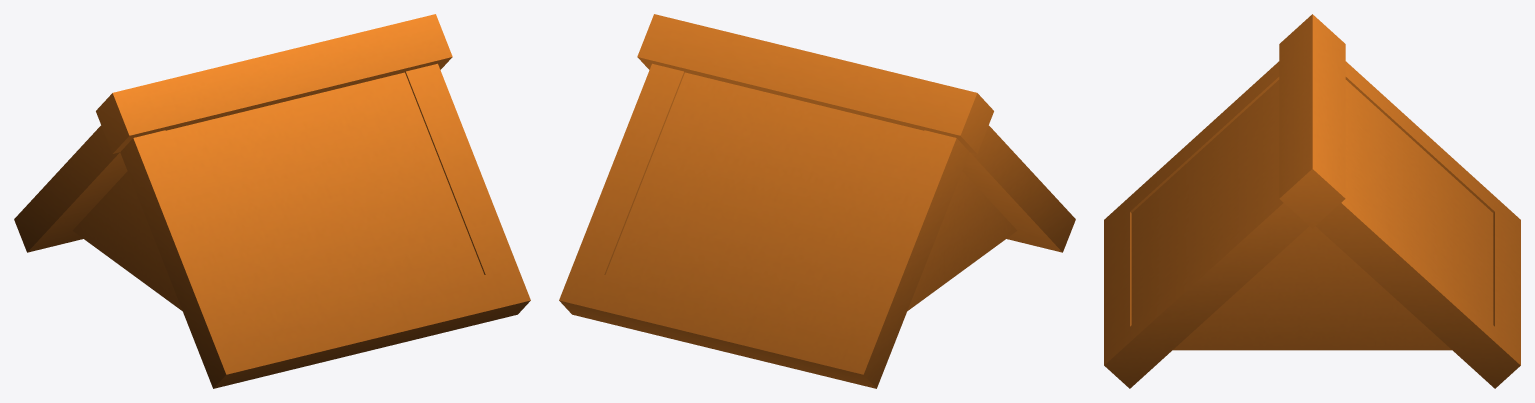
File: dakje.fbx
3 renders of one model, left to right at view 1: azimuth 30°, elevation 25°; view 2: azimuth 150°, elevation 25°; view 3: azimuth 270°, elevation 25°, orthographic.
Visible parts, largest first — view 1: Cube.026; view 2: Cube.026; view 3: Cube.026.
Part boxes in pixels (x1,y1,x2,y2): Cube.026: (14,14,530,388); Cube.026: (559,14,1075,388); Cube.026: (1104,14,1520,388).
Size of the model in its own units: 2147 by 1459 by 2443.
1 material, 1 textured.
